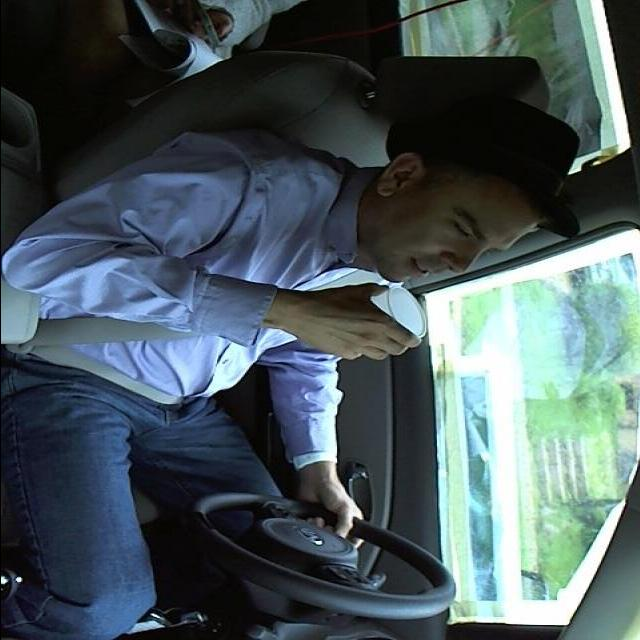drinking: (320, 286, 429, 354)
